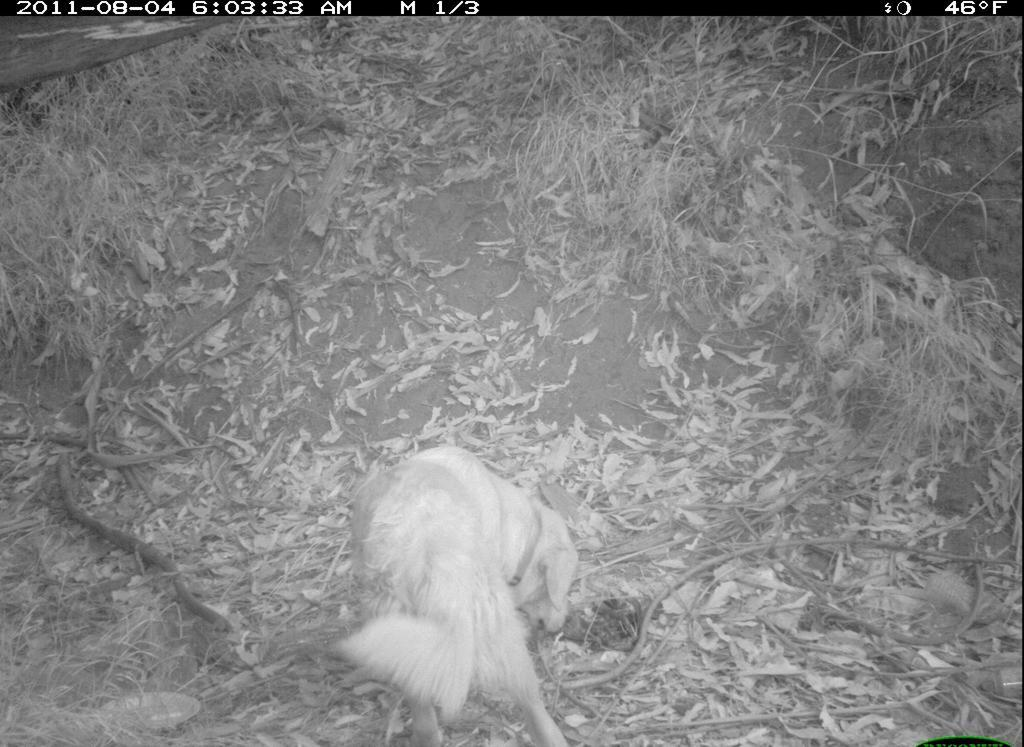dog: (326, 440, 591, 744)
